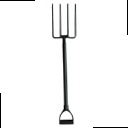Fork: (45, 3, 80, 127)
